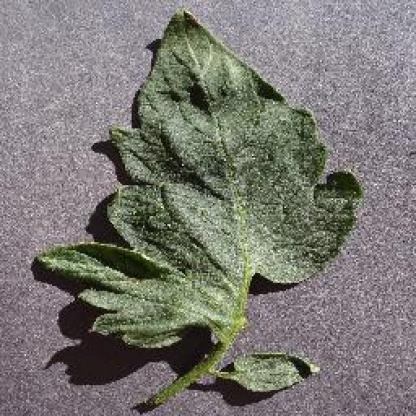good leaf: (120, 36, 314, 297)
